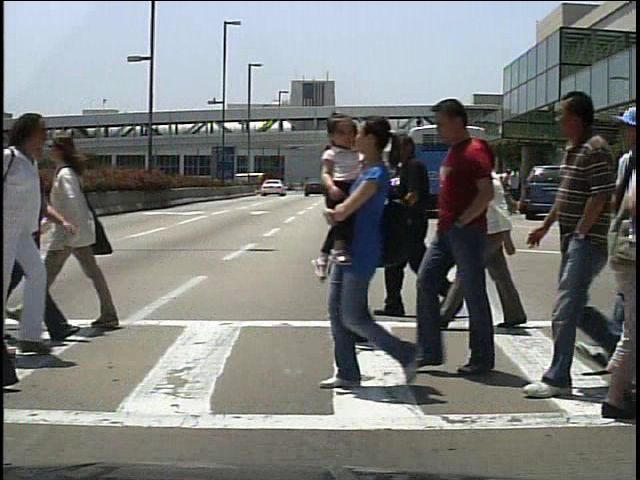person: (430, 100, 518, 375), (311, 120, 415, 347), (41, 116, 132, 339), (2, 113, 74, 366), (461, 139, 530, 341), (379, 130, 451, 322), (582, 168, 602, 218), (493, 164, 511, 217)
